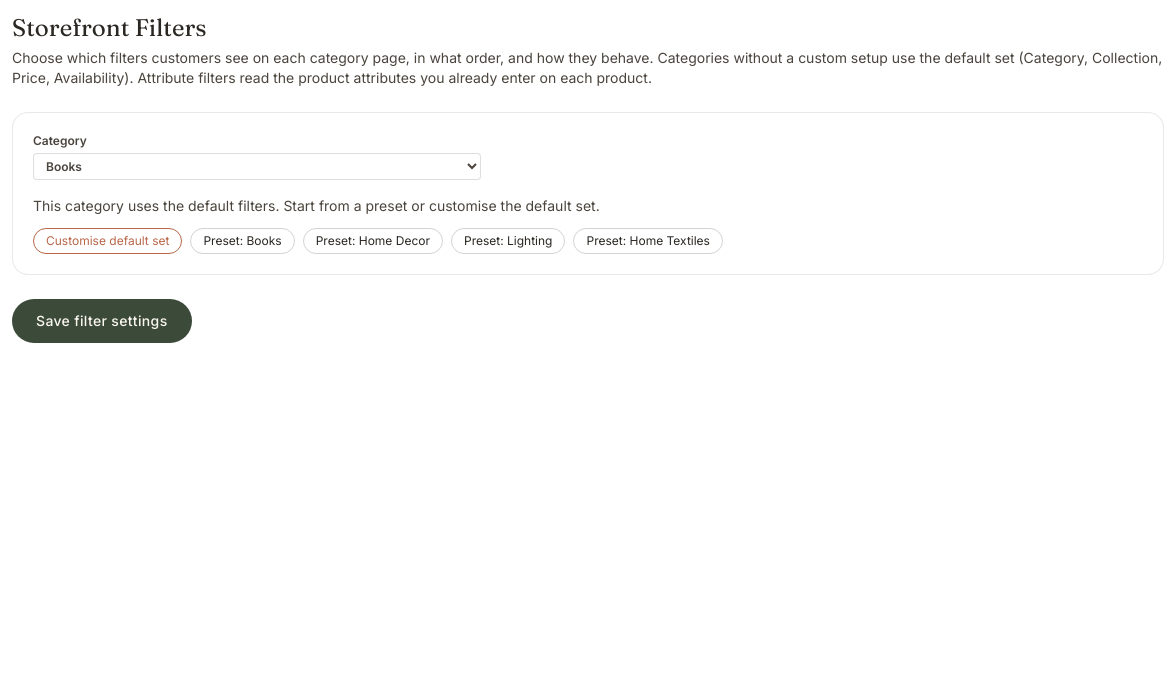
Test case: admin storefront filter configuration › surfaces a server validation error instead of failing silently
The image size is (1176, 690).
Check: the text "uses the default filters" is shown, box [33, 197, 600, 214]
Click the button "Customise default set".
click(108, 241)  # box [33, 228, 182, 254]
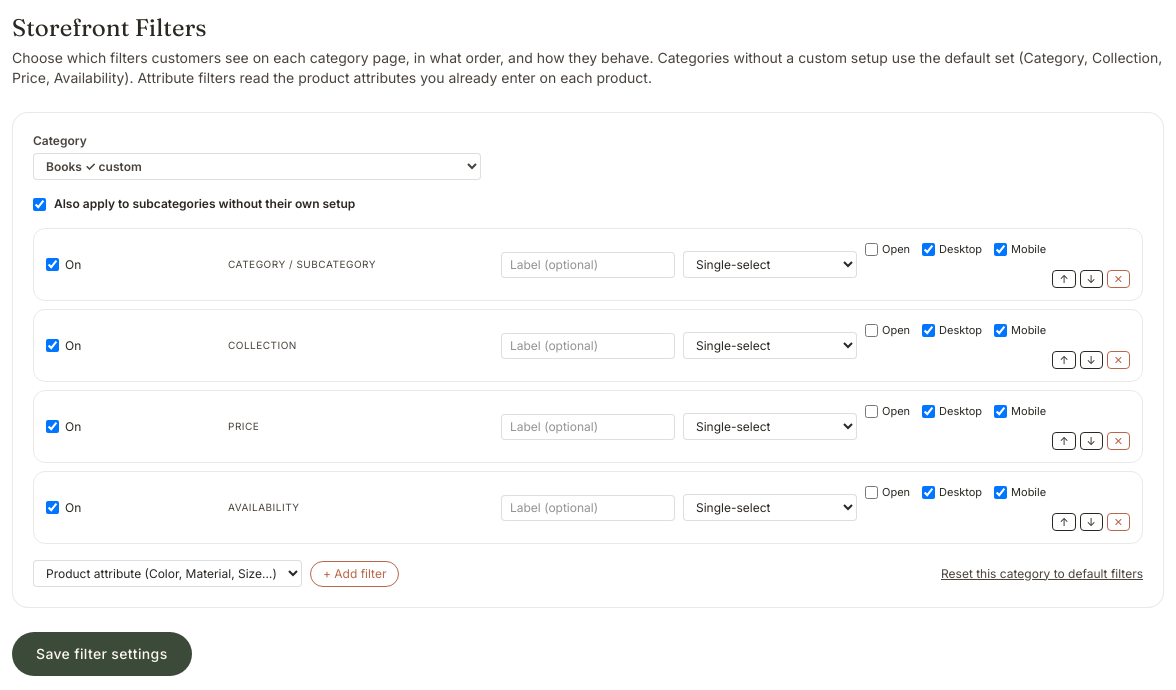
Click the button "Save filter settings".
click(102, 654)  # box [12, 632, 192, 676]
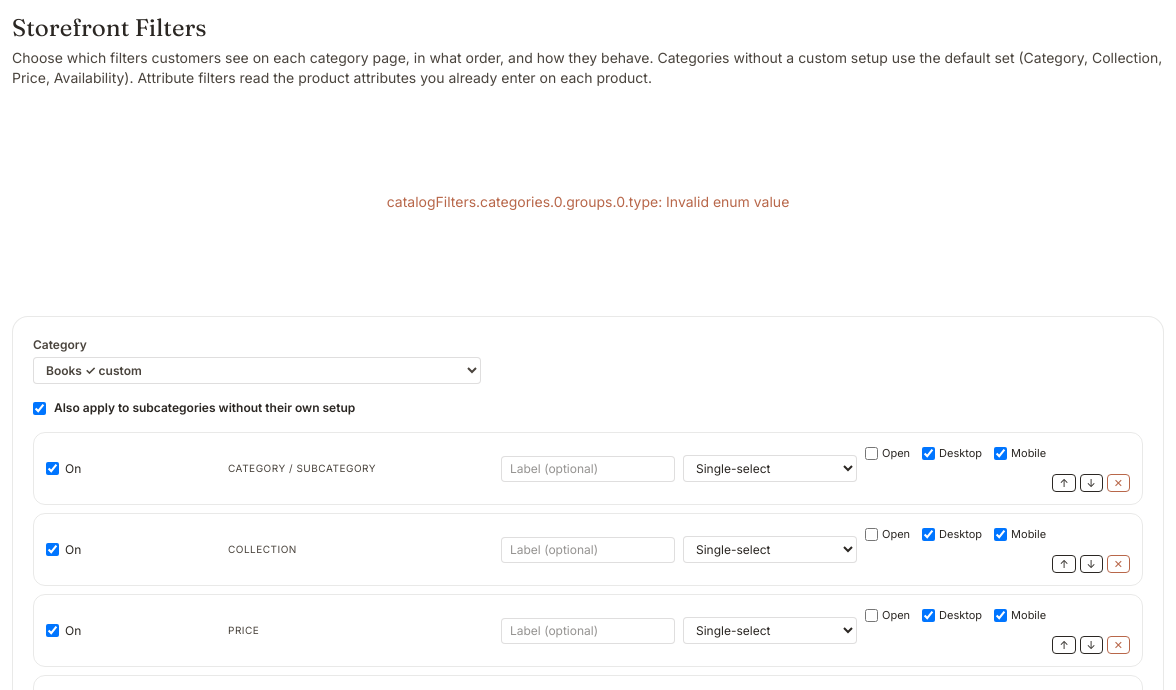
Check: the text "Invalid enum value" is shown, box [387, 193, 789, 210]
